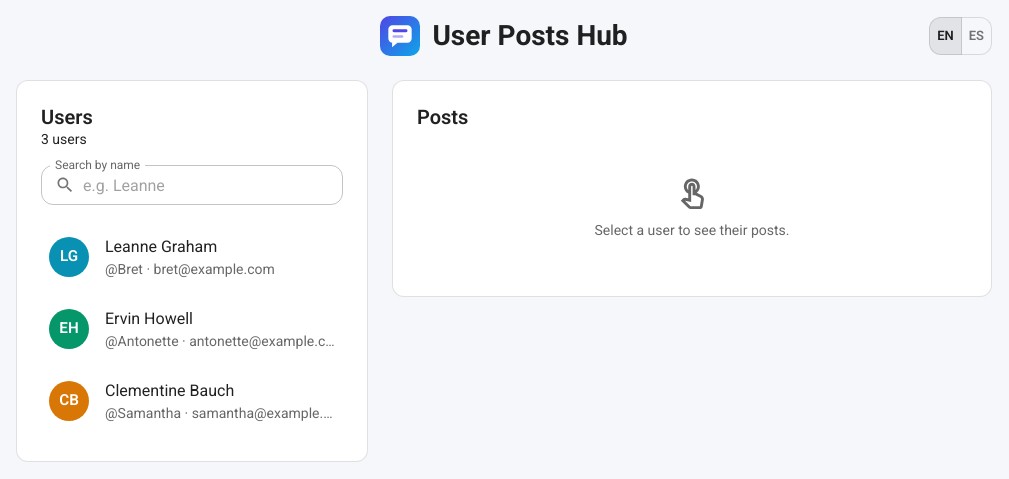
Test case: App › switches the interface to Spanish and keeps the choice
Click the button with aria-label "Español".
click(976, 36)  # box [961,17,992,55]
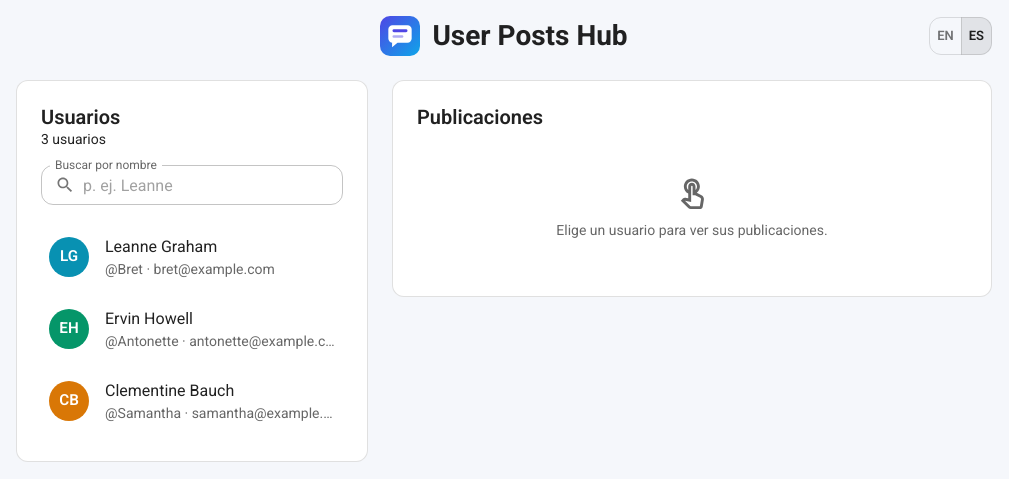
Now the element named "Idioma" is shown, box [929,17,992,55]
